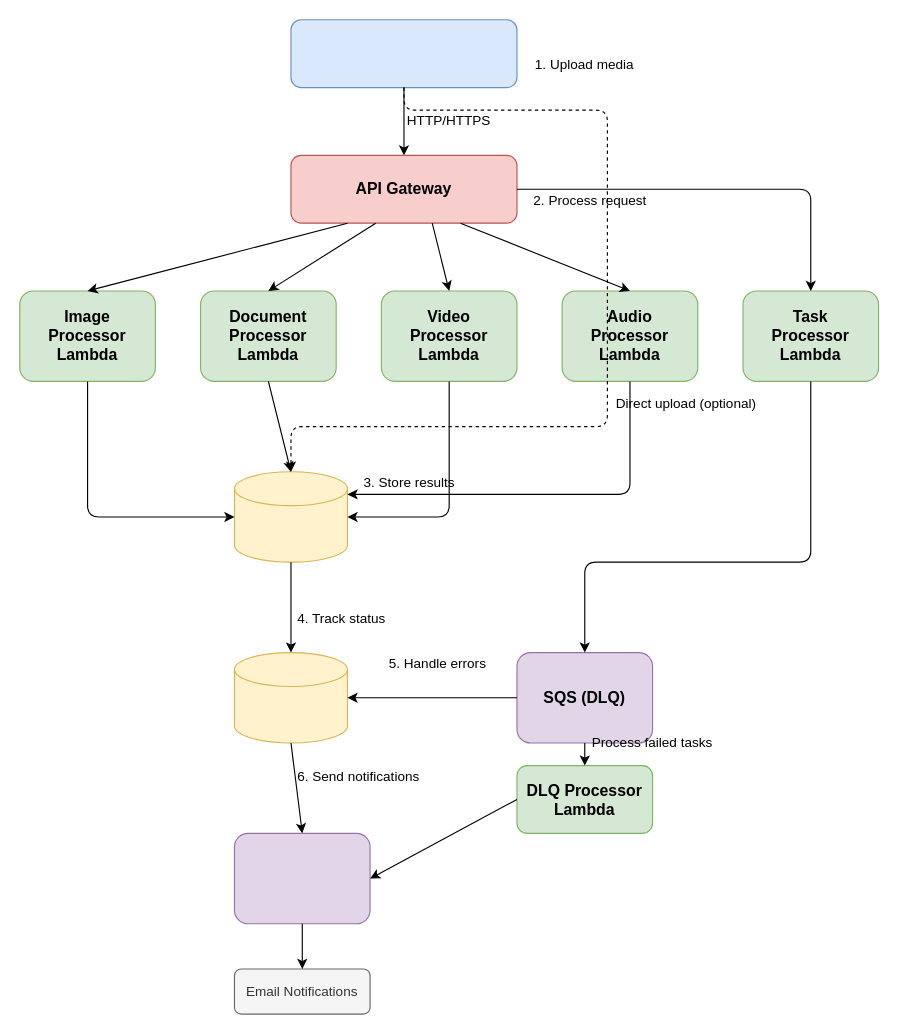
Some shapes in this 898 by 1034 pixel diagram are drawn without their labels. The centre of each missing label's shape, as x and y in pixels:
Client Application: pixel 403 53
DynamoDB: pixel 290 697
S3: pixel 290 516
SNS Topic: pixel 301 878
